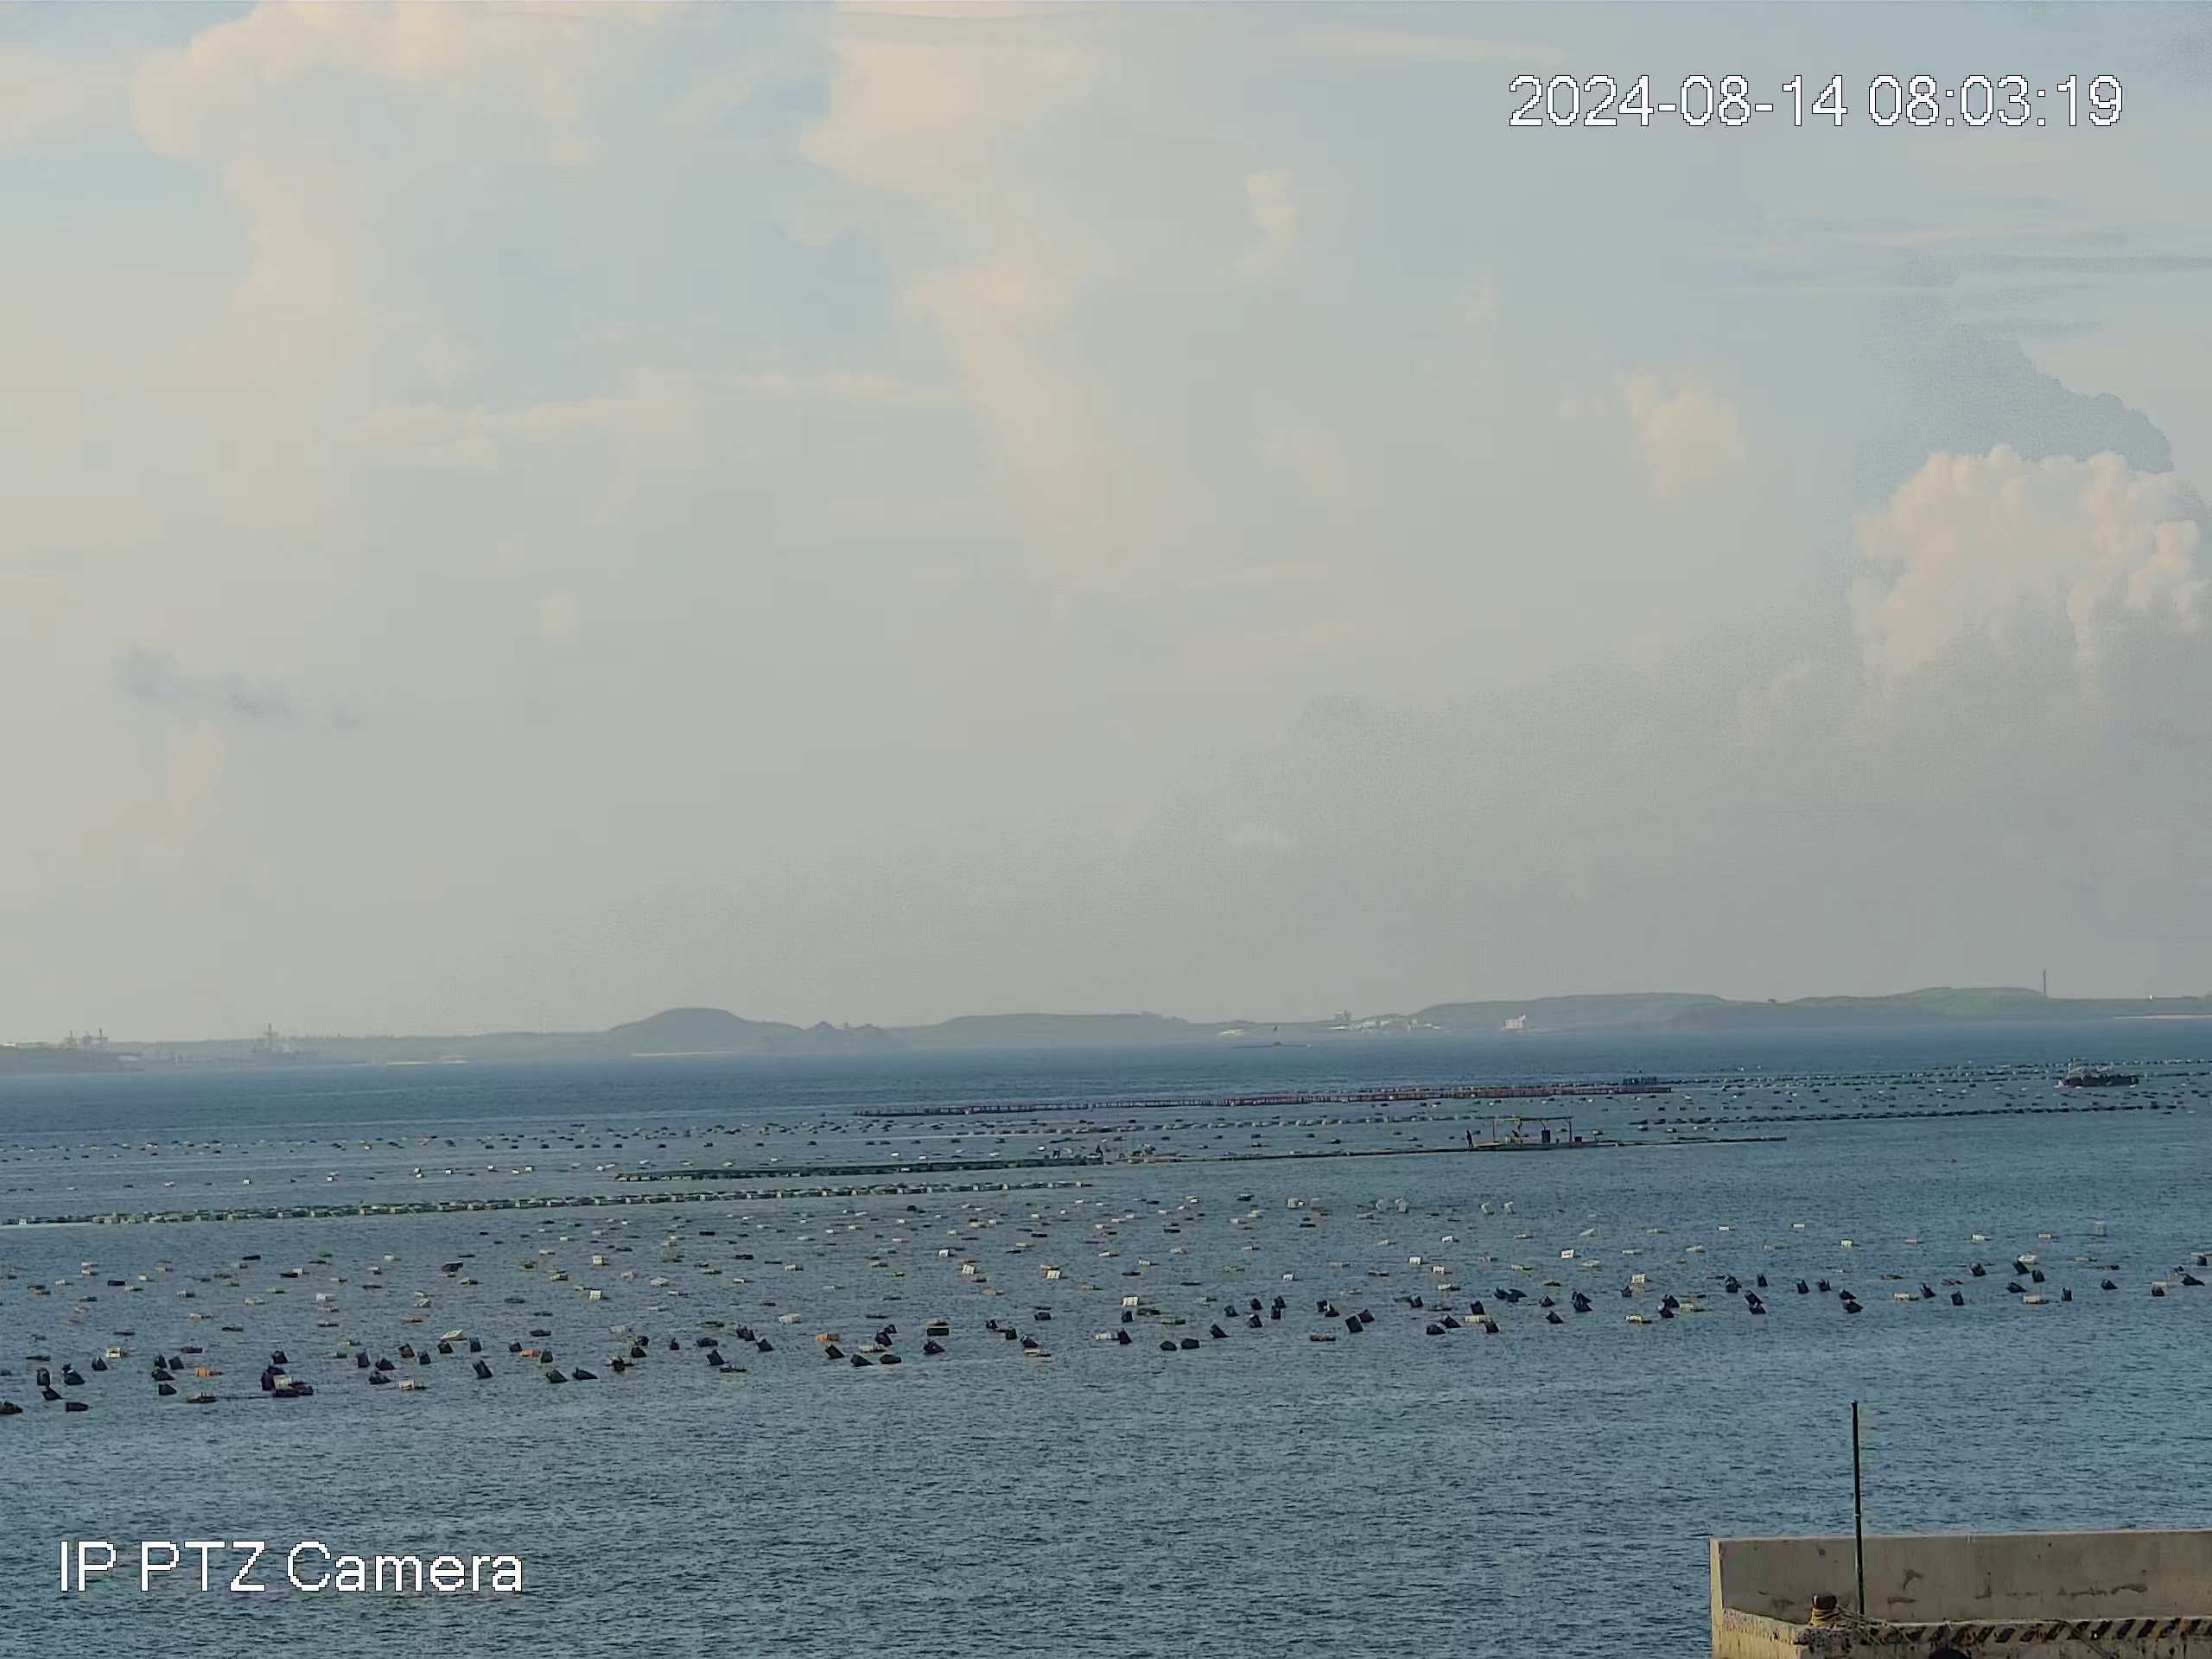boat: (1477, 1114, 1597, 1147), (2057, 1056, 2144, 1086)
